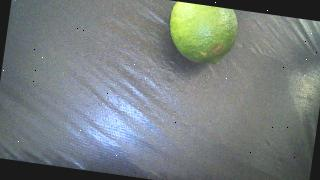DESECHO: (165, 1, 240, 68)
